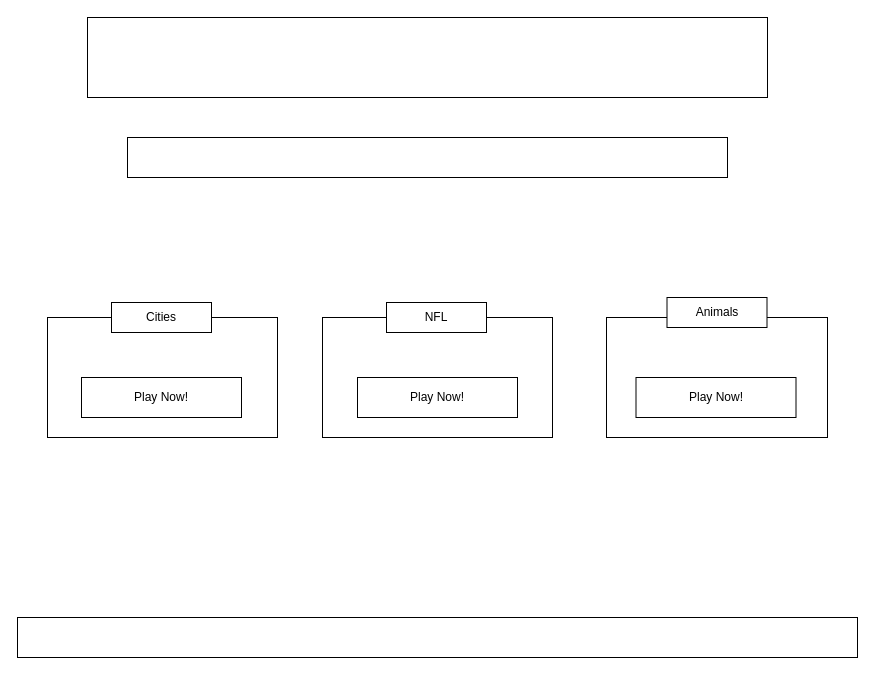
Image size: 875x675. Some labels were removed from this diagram. The centre of each missing label's shape, as x and y in pixels:
Footer: pixel 437 637
Pick A Game!: pixel 427 157
Welcome to {Website Name}: pixel 427 57
